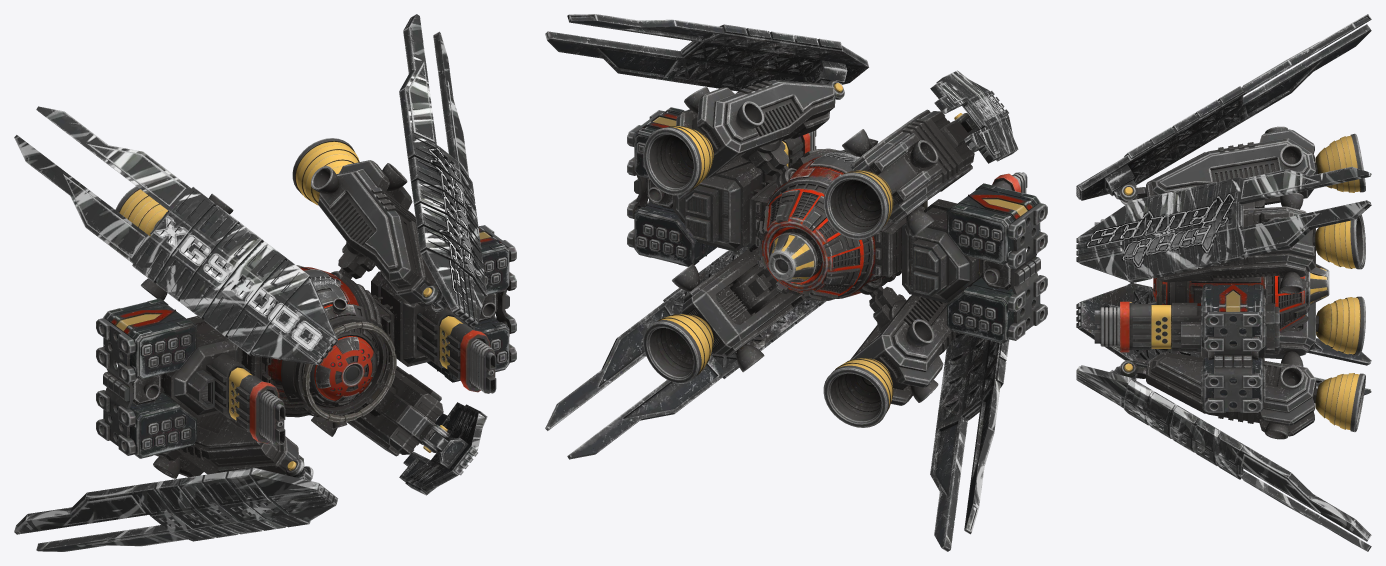
The model's file is schnell-geist.glb.
3 renders of one model, left to right at view 1: azimuth 30°, elevation 25°; view 2: azimuth 150°, elevation 25°; view 3: azimuth 270°, elevation 25°, orthographic. The views are drawn at different scales.
Parts seen in each view (by area): view 1: root; view 2: root; view 3: root.
Boxes of the visible parts, box(x1,y1,x2,y2) form: root: box(14, 14, 516, 551); root: box(545, 14, 1047, 551); root: box(1076, 14, 1371, 551).
Size of the model in its own units: 24 by 23.91 by 16.85.
5 materials, 5 textured.
